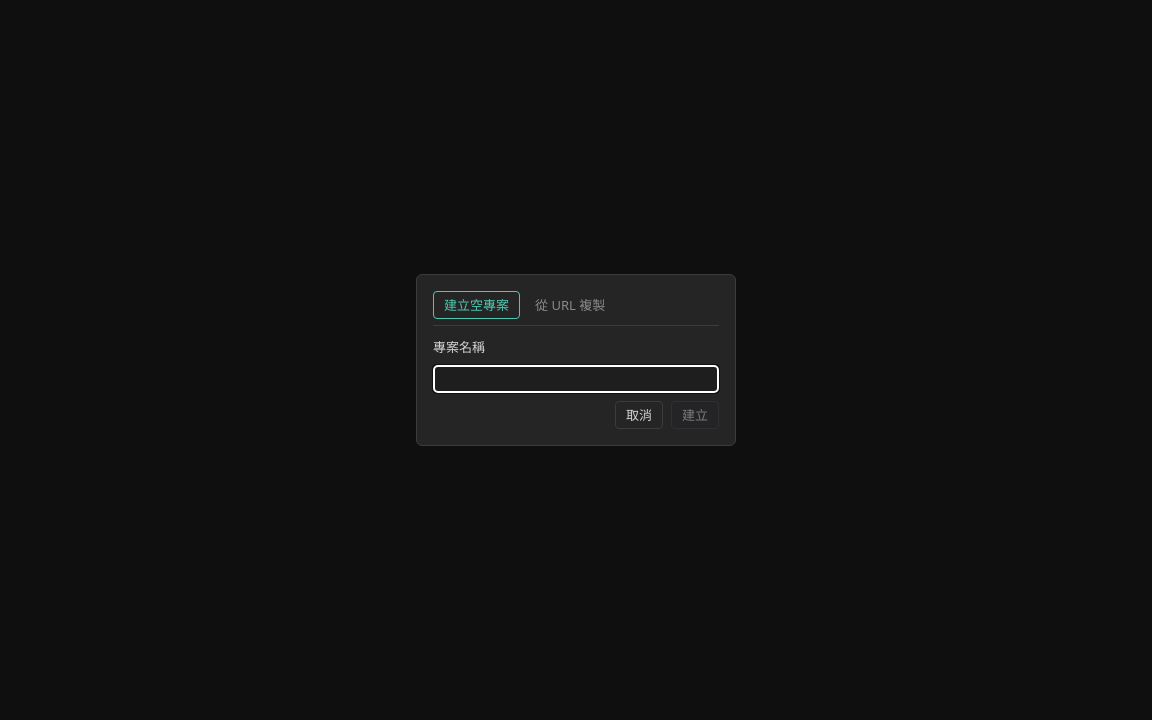
Test case: NewProjectDialog clone mode › rejects a malformed source inline before submitting
Click the button "從 URL 複製" at (570, 305), box [524,291,616,319]
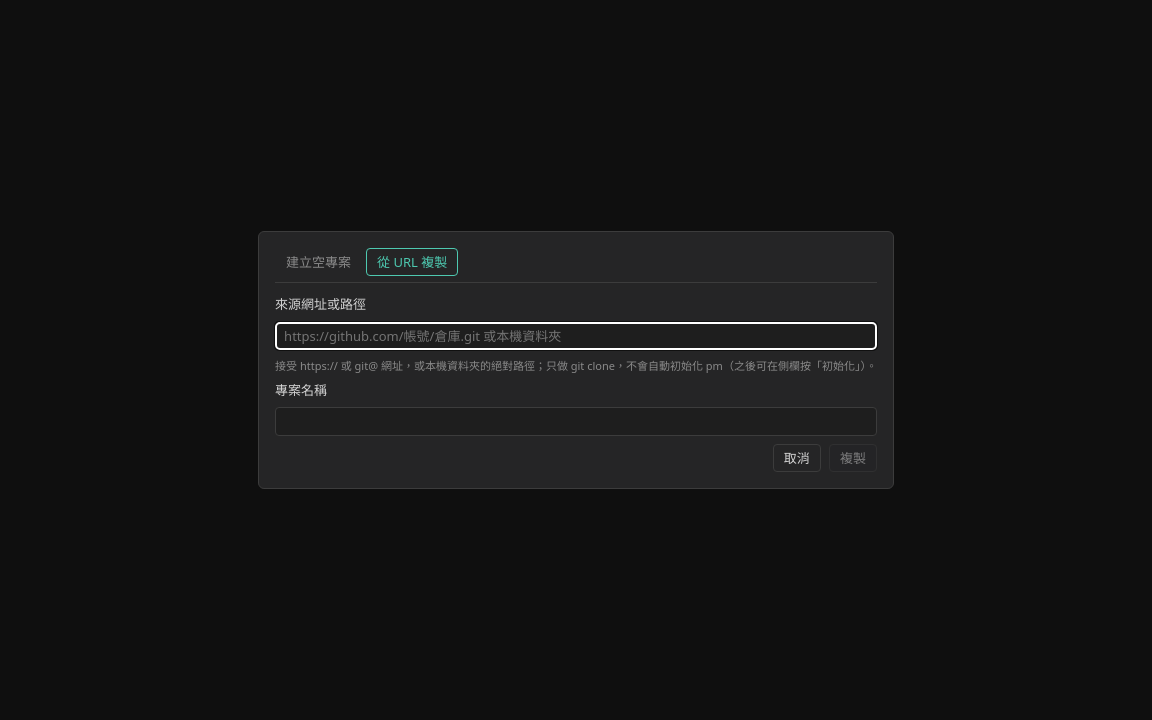
Type "not a url" into the field labelled "來源網址或路徑" at (576, 336), box [275,322,877,350]
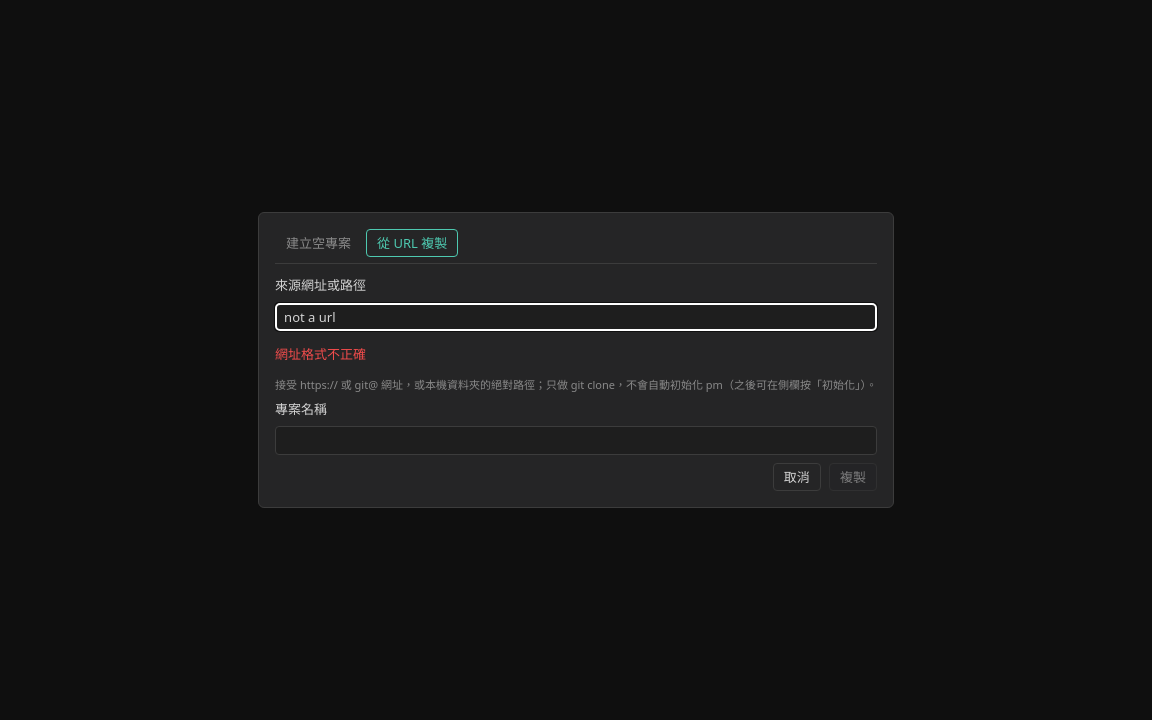
Check: the button "複製" is disabled, box [829,463,877,491]
Check: the text "網址格式不正確" is shown, box [275,345,366,363]
// UNC 路徑：主程序會拒（stat 會卡住），這裡先擋
Replace the text in the field labelled "來源網址或路徑" with "\\\\server\\share\\repo" at (576, 317), box [275,302,877,331]
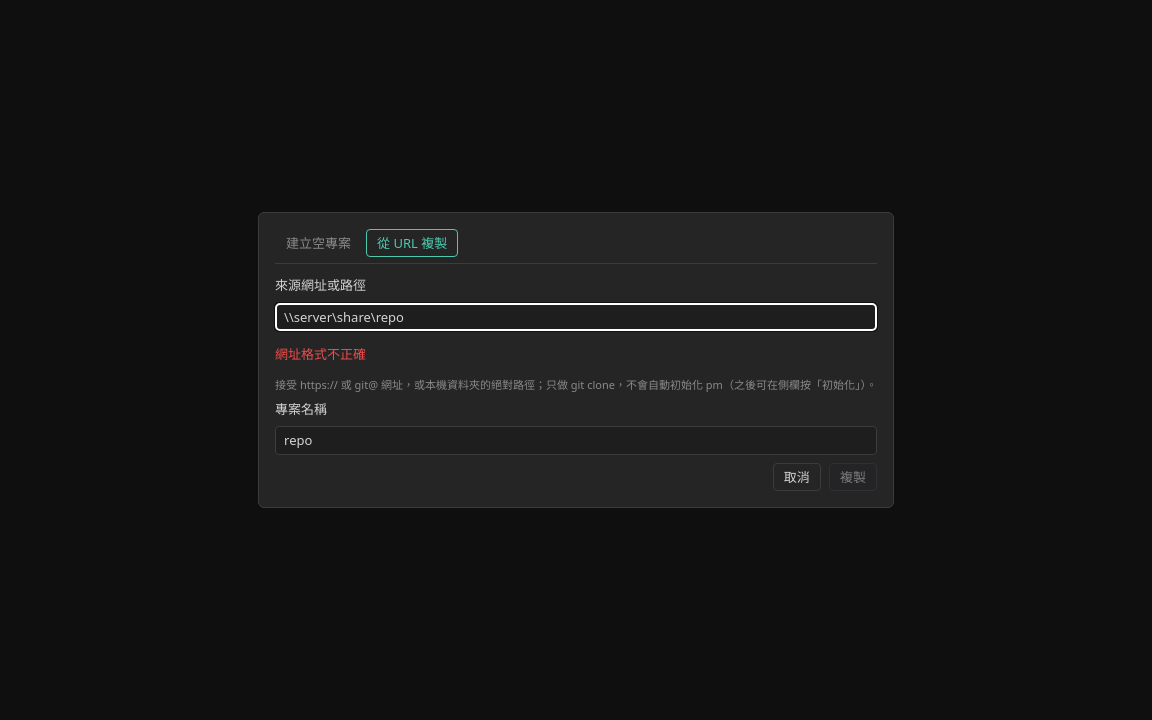
Check: the text "網址格式不正確" is shown, box [275,345,366,363]
Replace the text in the field labelled "來源網址或路徑" with "C:\\Repos\\local-proj" at (576, 317), box [275,302,877,331]
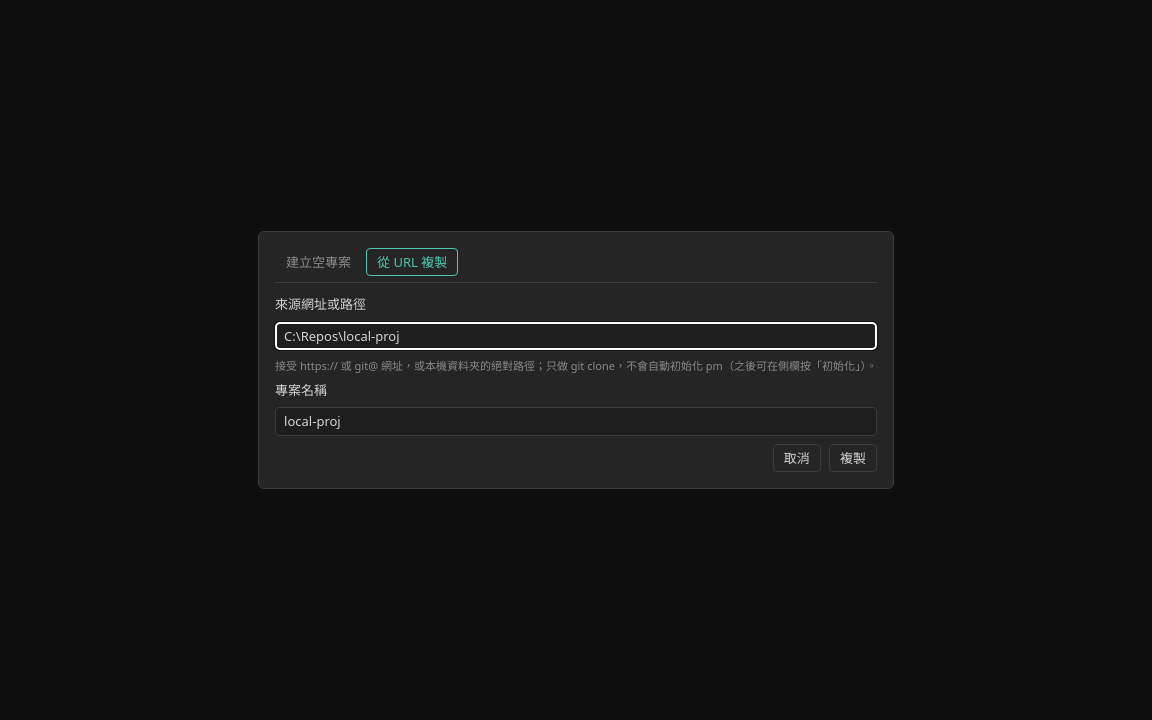
Check: the text "網址格式不正確" is gone
Check: the button "複製" is enabled, box [829,444,877,472]
